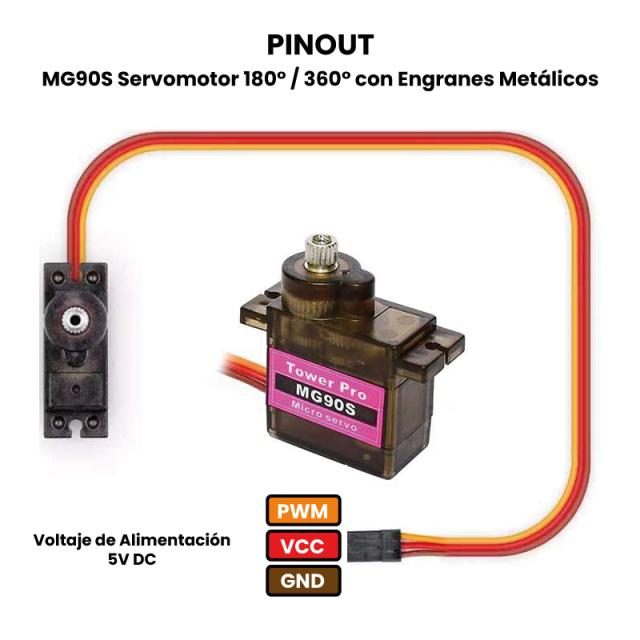servomotor: (207, 222, 496, 481), (37, 254, 113, 442)
